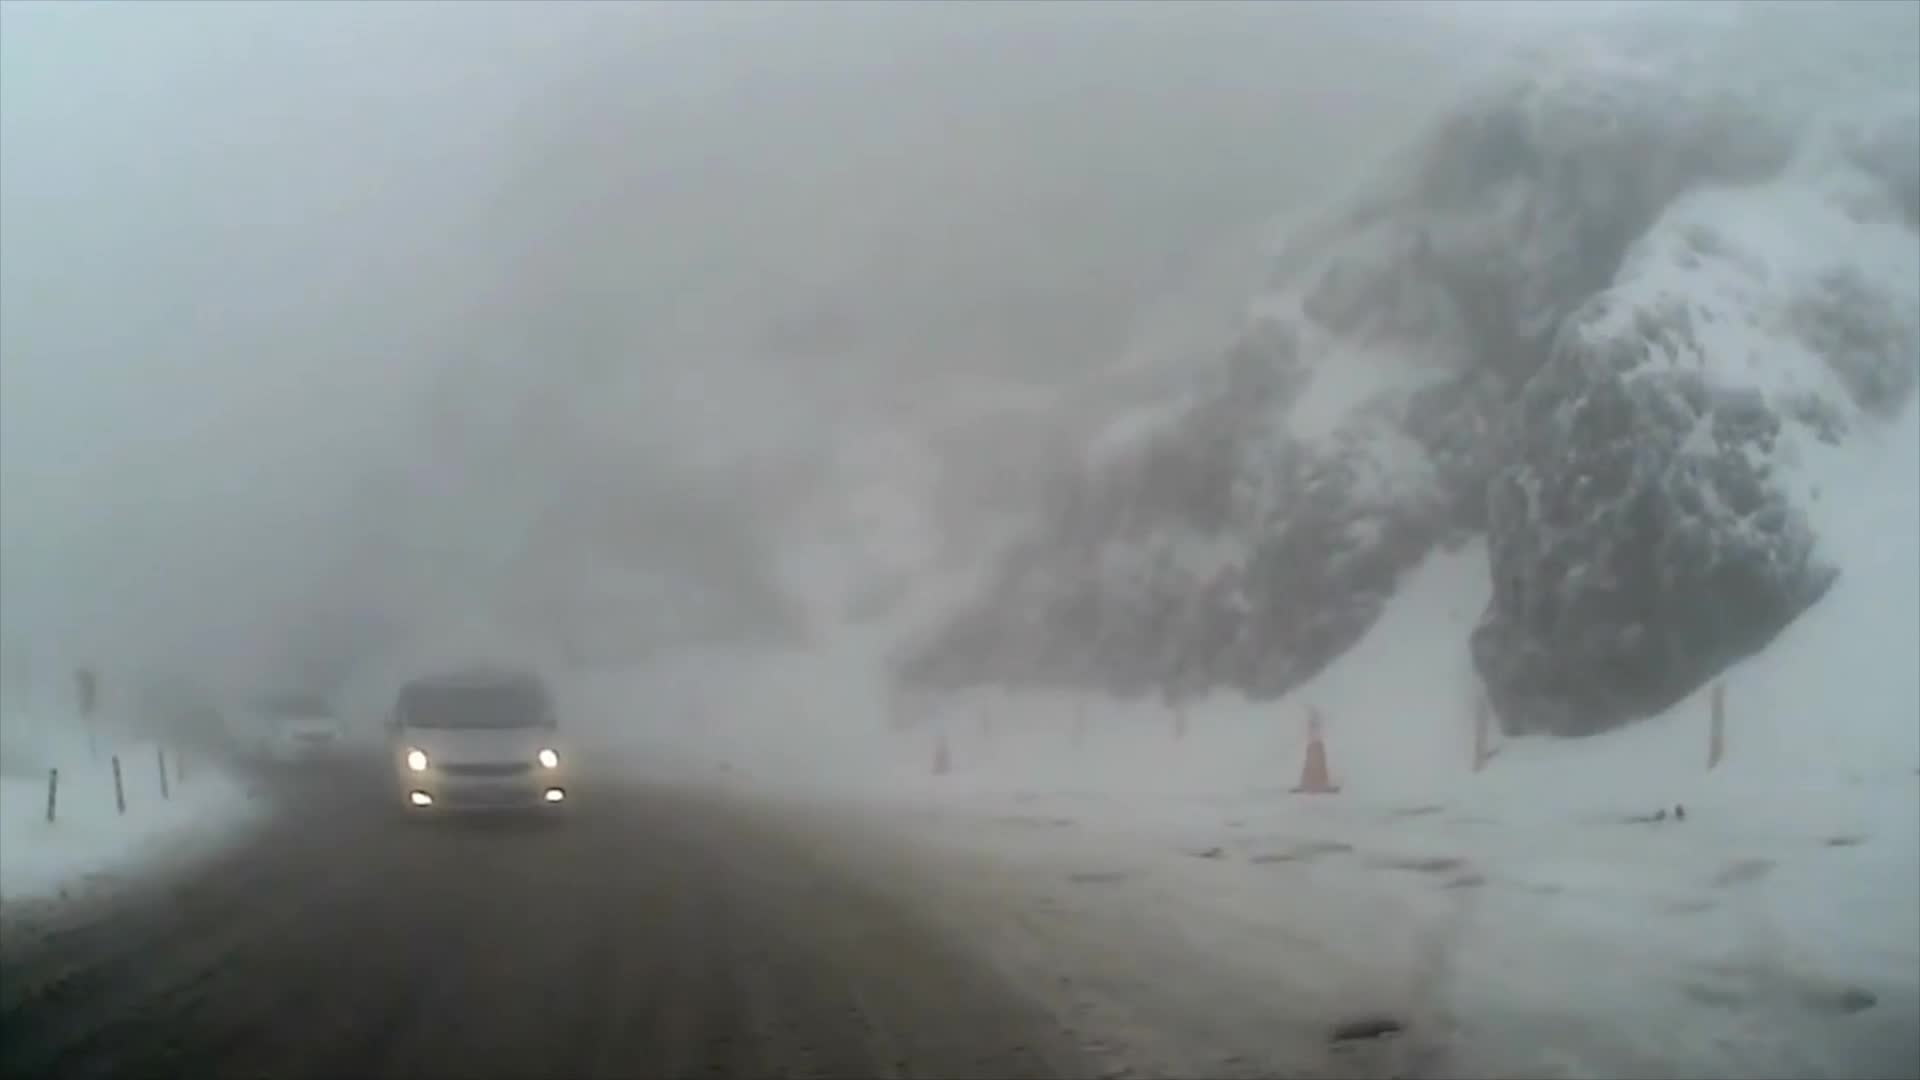vehicle: (382, 676, 567, 833)
